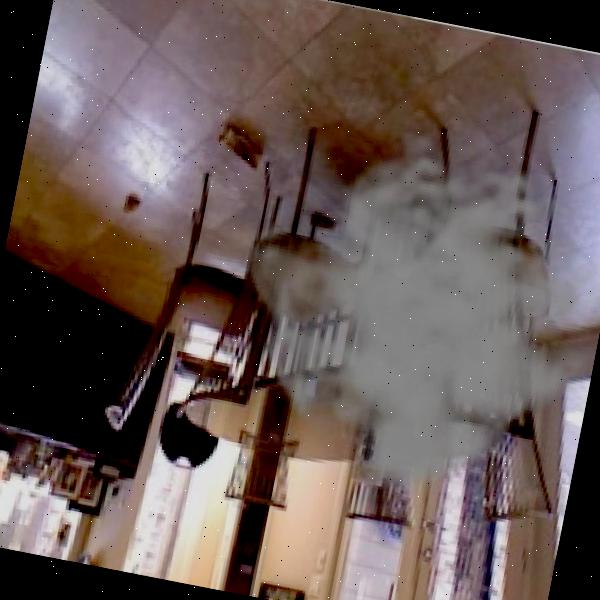smoke: (203, 101, 600, 527)
